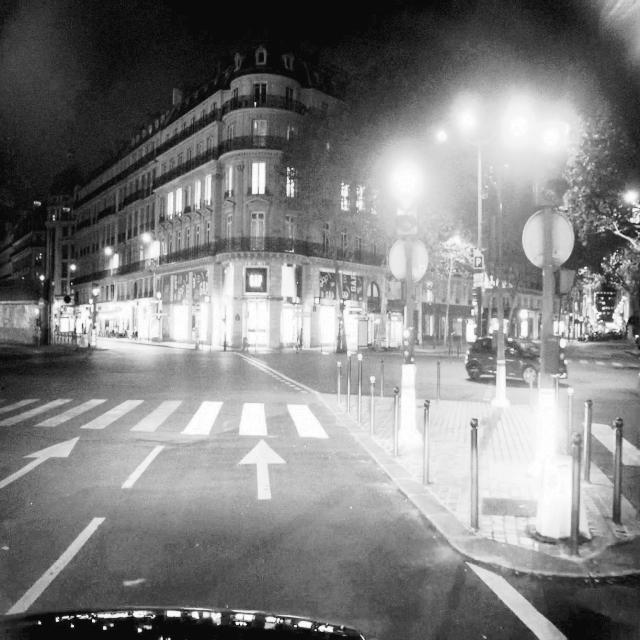Light: (543, 124, 568, 207), (396, 170, 418, 238)
Sign: (522, 208, 576, 269), (389, 237, 429, 283)
